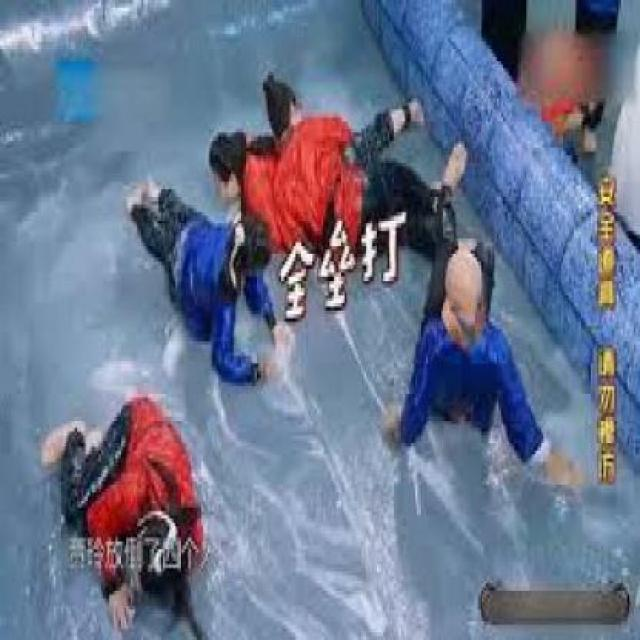fall: (233, 45, 456, 253)
